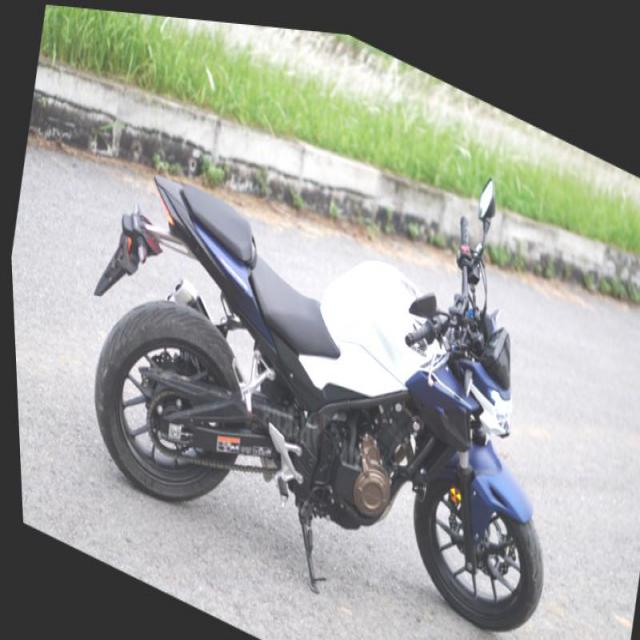CB500F: (58, 121, 588, 639)
